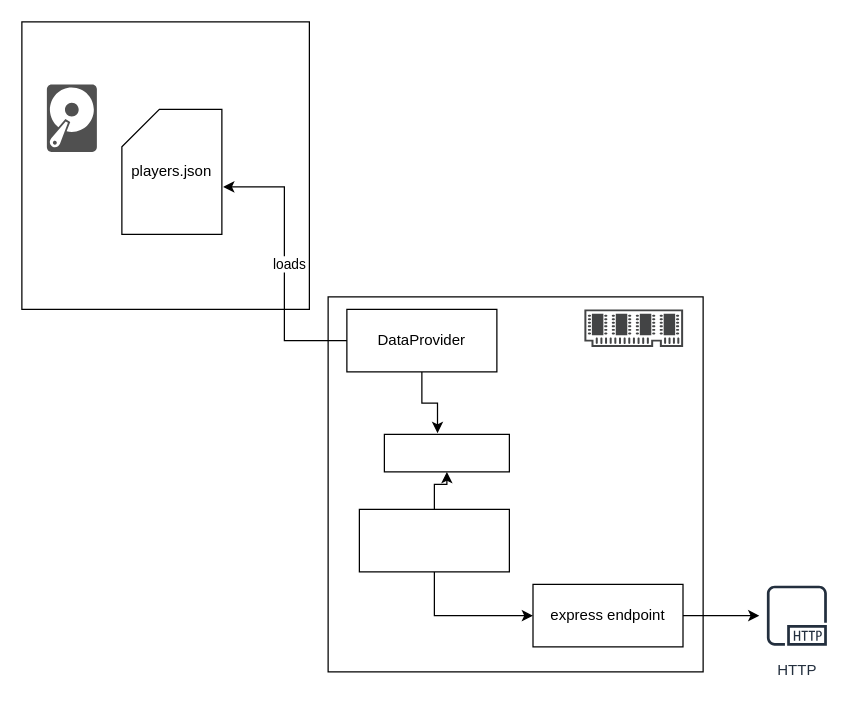
This 856x701 diagram has some shape labels left out. Here are the shapes that lost their labels. From the top down, the centre of each, then its label:
(x=446, y=452): playerData
(x=433, y=540): salaryService
